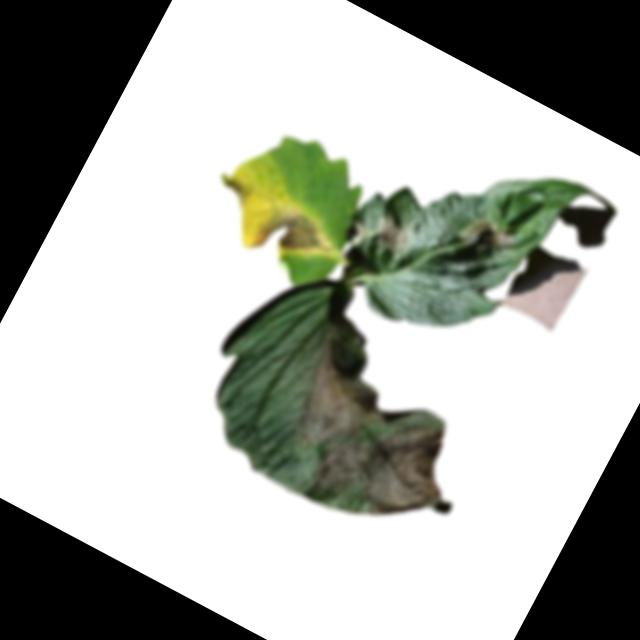Late_blight: (257, 313, 516, 559), (249, 201, 342, 284), (456, 212, 520, 266), (370, 210, 421, 259), (219, 174, 250, 200)
